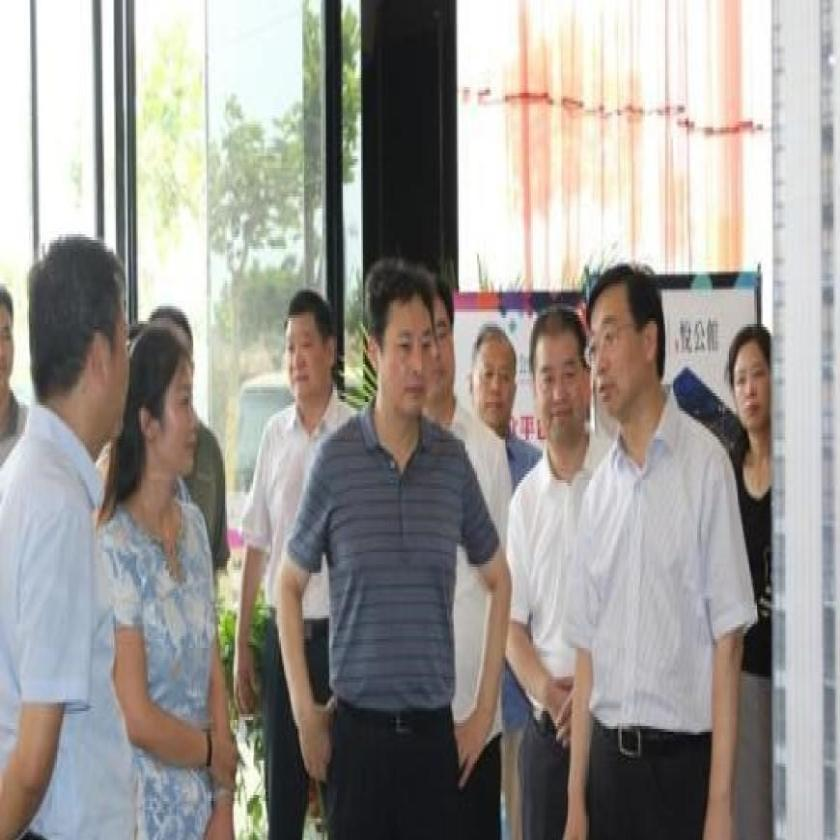Sin_casco: (27, 231, 133, 449), (582, 252, 668, 429), (123, 327, 204, 499), (363, 258, 433, 445), (523, 305, 595, 456), (277, 290, 340, 438), (722, 318, 780, 448), (468, 325, 518, 440)
